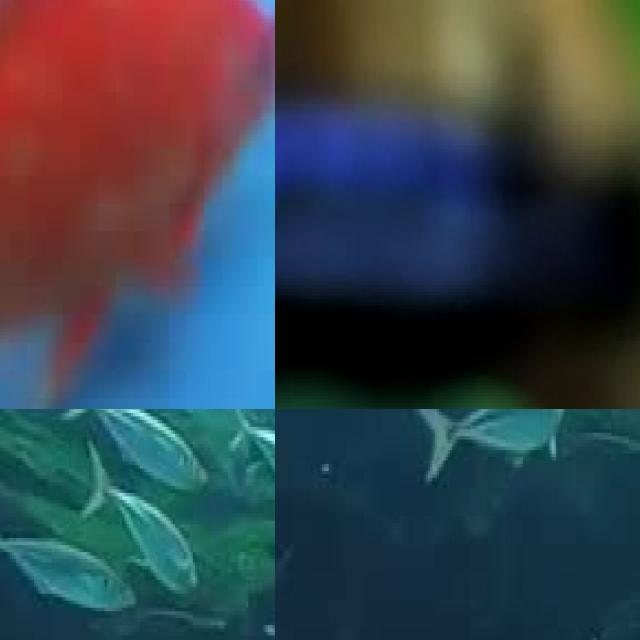fish: (275, 97, 640, 409), (0, 0, 275, 409), (0, 506, 137, 635)
